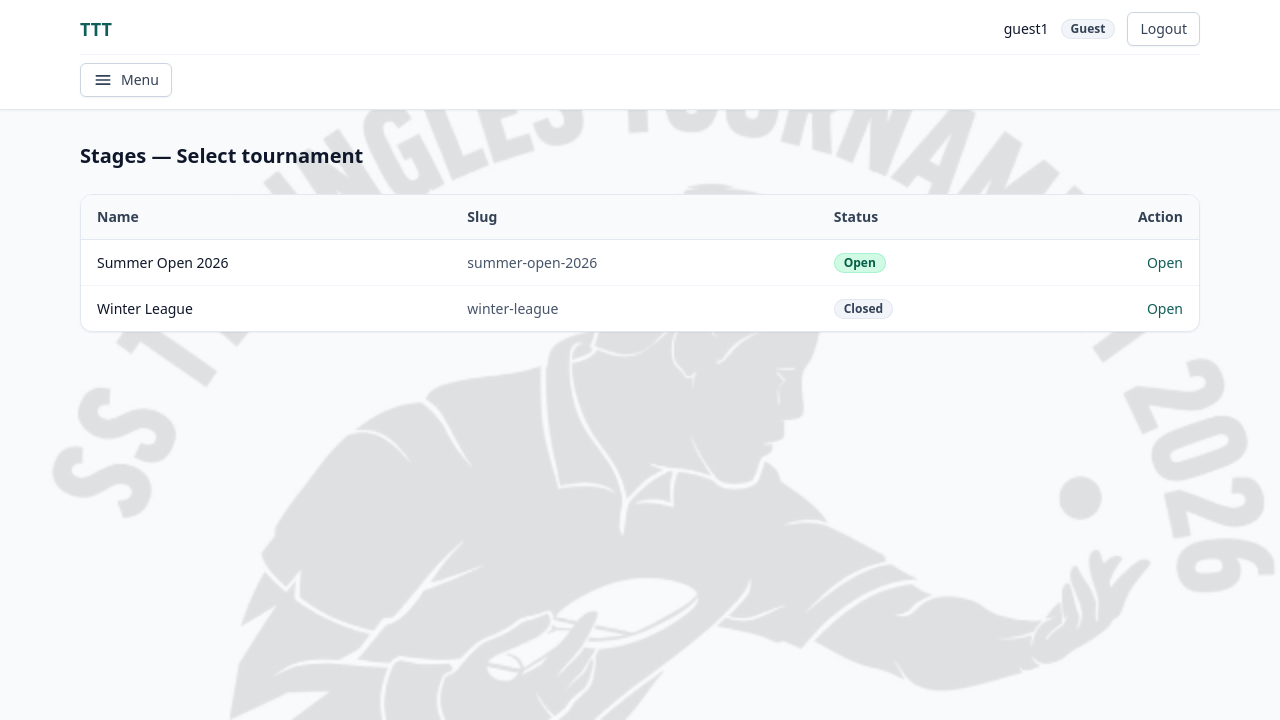
Test: Stages tournament picker › lists tournaments and opens the stages screen
Expected: the heading "Stages — Select tournament" is shown, [80,142,363,170]
Expected: the text "Summer Open 2026" is shown, [81,240,451,286]
Click the link "Open" in the row of "Summer Open 2026".
click(1165, 262)  # box [1147,252,1183,272]
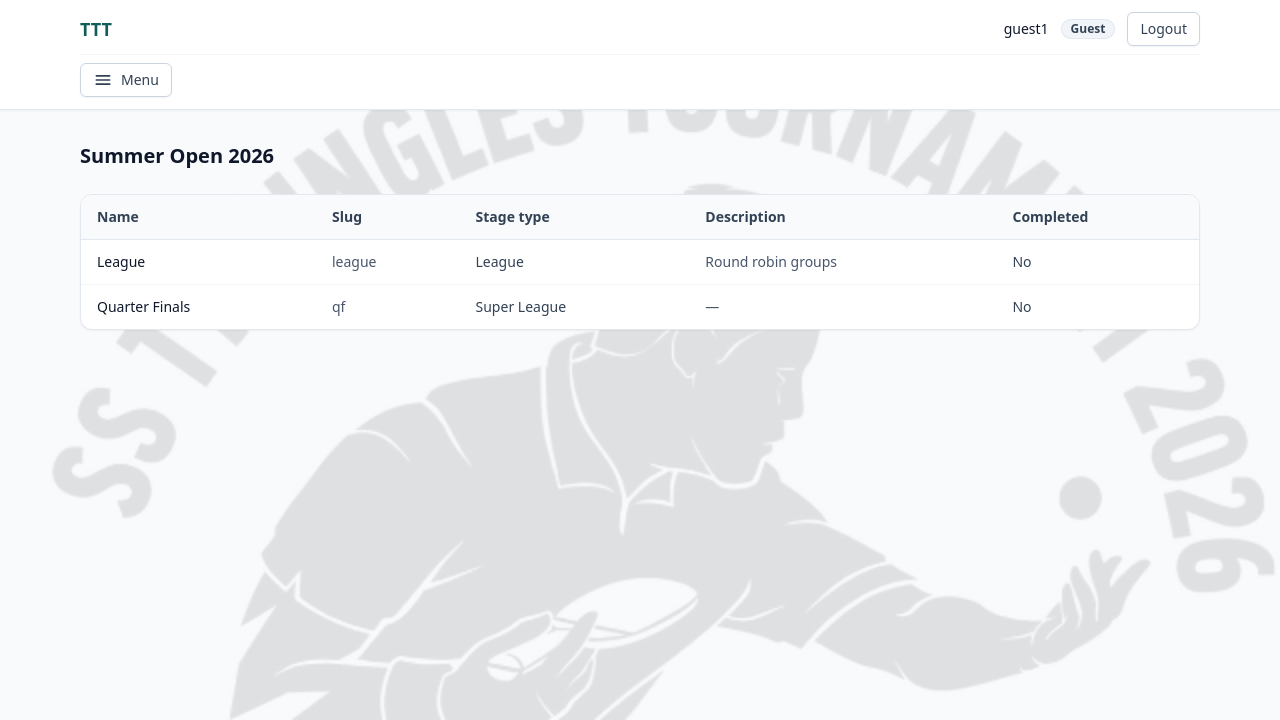
Now the heading "Summer Open 2026" is shown, box [80,142,274,170]
Now the text "Quarter Finals" is shown, box [81,284,316,329]
Now the text "league" is shown, box [316,240,460,284]
